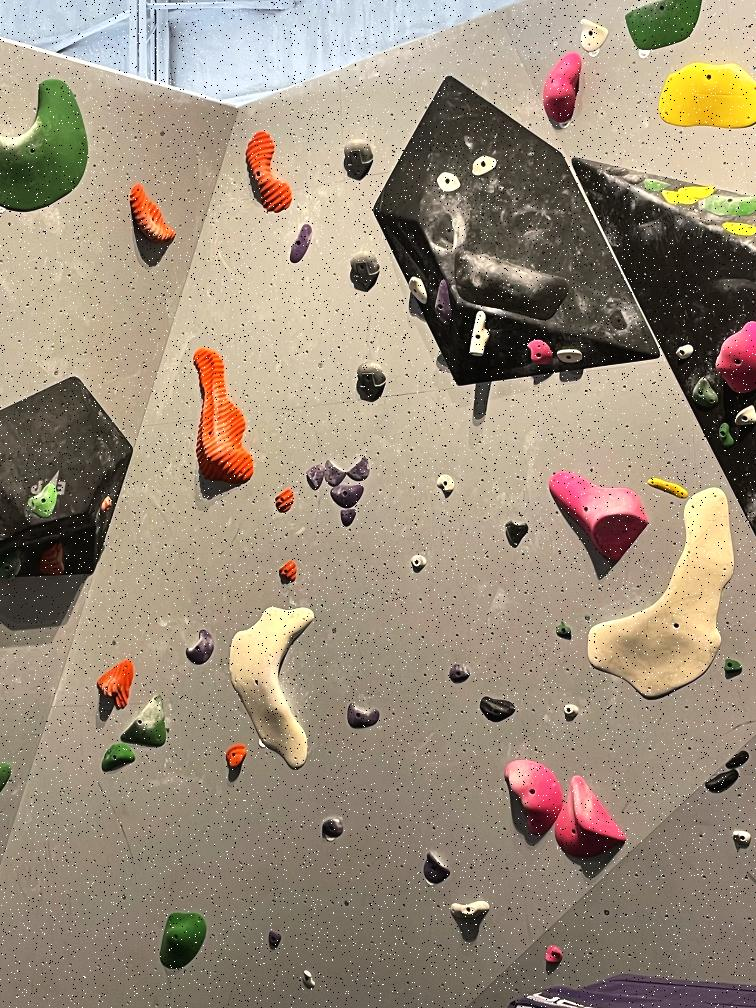Crimp: (323, 457, 374, 485), (479, 693, 516, 723), (422, 852, 450, 886), (705, 768, 739, 793), (277, 559, 299, 583), (321, 815, 342, 840), (660, 191, 699, 204), (272, 490, 294, 511), (723, 220, 755, 234), (724, 752, 751, 766), (644, 178, 669, 188)
Edges: (626, 0, 702, 49), (117, 691, 172, 749), (699, 193, 756, 213), (647, 475, 688, 499), (292, 219, 310, 264), (730, 830, 751, 844)
Foothold: (436, 473, 456, 497), (299, 970, 318, 989), (545, 945, 563, 965), (556, 621, 573, 640), (675, 344, 696, 359), (266, 930, 283, 948), (409, 556, 428, 572), (338, 510, 358, 524), (722, 658, 742, 672), (563, 702, 577, 721), (102, 494, 112, 512)
Hand-holds: (718, 423, 734, 449)
Jug: (549, 764, 633, 862), (500, 755, 561, 839), (126, 186, 181, 247), (341, 138, 375, 181), (356, 361, 387, 402), (348, 252, 381, 290), (578, 17, 608, 53), (434, 279, 455, 328), (691, 376, 722, 409), (100, 745, 137, 772), (503, 519, 532, 550), (0, 548, 23, 582), (221, 743, 251, 767), (43, 547, 67, 574), (468, 156, 498, 174), (556, 346, 582, 366), (435, 172, 463, 190), (305, 461, 323, 488), (735, 402, 754, 426)
Pinch: (468, 313, 490, 355), (448, 902, 492, 920)
Sloper: (583, 486, 742, 700), (224, 601, 318, 776), (1, 76, 93, 213), (550, 470, 649, 566), (190, 347, 254, 486), (656, 62, 756, 126), (235, 134, 292, 213), (716, 321, 755, 392), (160, 909, 204, 969), (546, 48, 580, 124), (94, 656, 134, 710), (184, 629, 217, 663), (28, 484, 59, 517), (345, 704, 382, 728), (328, 486, 364, 506), (528, 339, 554, 366), (446, 666, 472, 685)
